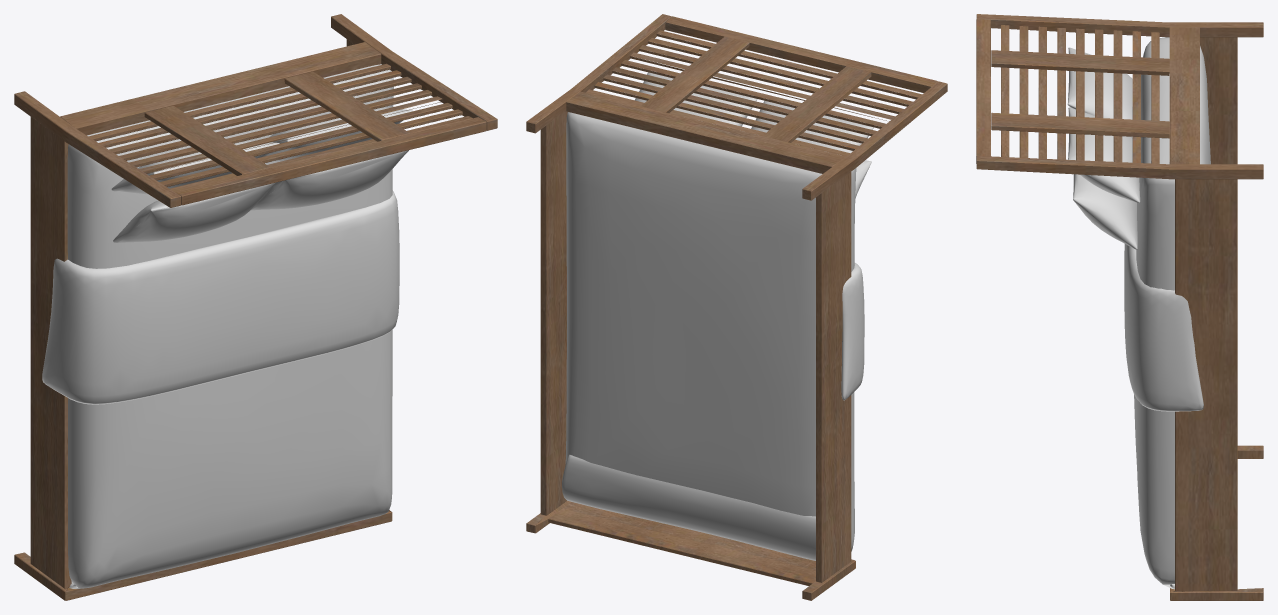
Rendered from double_bed_2.gltf.
The picture shows the model from 3 angles, left to right: view 1: azimuth 30°, elevation 25°; view 2: azimuth 150°, elevation 25°; view 3: azimuth 270°, elevation 25°; orthographic projection. The views are drawn at different scales.
Visible parts, largest first — view 1: objobjBox02_a9601d79e05642b08a006e84dcb0ca8b, objPlane03_5a59deecefa2485b805e7ee2d44cf687, Object07_a818dba50f3c42a1bb94ad6871ebd5a3, Box01_790c69d49c244e91970dd420d7d9d7f7, Object08_404e30c4cdb54e2da94131c8c20a2959, objBox57_e18d5656551345969191c12171433ff1, objBox56_cd6ba307c0d740cea2770729a2aa2139, Object11_18bda0e585124d3abebd0171378a6987, objBox55_360f81ae5af64f569713e230df8c1e07, objBox01_e3f1c961d21c4d3a9af6457d4894594a, Object09_fce9a7ef88af40aca0c1501cc47e24e4; view 2: objobjBox02_a9601d79e05642b08a006e84dcb0ca8b, Object08_404e30c4cdb54e2da94131c8c20a2959, Object07_a818dba50f3c42a1bb94ad6871ebd5a3, Box01_790c69d49c244e91970dd420d7d9d7f7, Object10_73a6717559d44358adc437c80054ca77, objPlane03_5a59deecefa2485b805e7ee2d44cf687, objBox55_360f81ae5af64f569713e230df8c1e07, objBox01_e3f1c961d21c4d3a9af6457d4894594a, Object09_fce9a7ef88af40aca0c1501cc47e24e4; view 3: Object08_404e30c4cdb54e2da94131c8c20a2959, Object07_a818dba50f3c42a1bb94ad6871ebd5a3, Box01_790c69d49c244e91970dd420d7d9d7f7, objobjBox02_a9601d79e05642b08a006e84dcb0ca8b, objPlane03_5a59deecefa2485b805e7ee2d44cf687, objBox56_cd6ba307c0d740cea2770729a2aa2139, objBox55_360f81ae5af64f569713e230df8c1e07, objBox01_e3f1c961d21c4d3a9af6457d4894594a, Object09_fce9a7ef88af40aca0c1501cc47e24e4.
Boxes of the visible parts, x1=… form: objobjBox02_a9601d79e05642b08a006e84dcb0ca8b: x1=67, y1=64, x2=393, y2=588; objPlane03_5a59deecefa2485b805e7ee2d44cf687: x1=42, y1=190, x2=399, y2=404; Object07_a818dba50f3c42a1bb94ad6871ebd5a3: x1=60, y1=42, x2=486, y2=205; Box01_790c69d49c244e91970dd420d7d9d7f7: x1=14, y1=14, x2=497, y2=207; Object08_404e30c4cdb54e2da94131c8c20a2959: x1=30, y1=39, x2=353, y2=588; objBox57_e18d5656551345969191c12171433ff1: x1=113, y1=182, x2=275, y2=242; objBox56_cd6ba307c0d740cea2770729a2aa2139: x1=251, y1=150, x2=408, y2=210; Object11_18bda0e585124d3abebd0171378a6987: x1=65, y1=512, x2=391, y2=600; objBox55_360f81ae5af64f569713e230df8c1e07: x1=266, y1=107, x2=412, y2=161; objBox01_e3f1c961d21c4d3a9af6457d4894594a: x1=111, y1=139, x2=279, y2=194; Object09_fce9a7ef88af40aca0c1501cc47e24e4: x1=14, y1=510, x2=392, y2=600; objobjBox02_a9601d79e05642b08a006e84dcb0ca8b: x1=562, y1=112, x2=856, y2=560; Object08_404e30c4cdb54e2da94131c8c20a2959: x1=540, y1=111, x2=851, y2=582; Object07_a818dba50f3c42a1bb94ad6871ebd5a3: x1=566, y1=16, x2=937, y2=173; Box01_790c69d49c244e91970dd420d7d9d7f7: x1=526, y1=14, x2=947, y2=200; Object10_73a6717559d44358adc437c80054ca77: x1=548, y1=502, x2=815, y2=585; objPlane03_5a59deecefa2485b805e7ee2d44cf687: x1=841, y1=263, x2=864, y2=400; objBox55_360f81ae5af64f569713e230df8c1e07: x1=635, y1=72, x2=757, y2=126; objBox01_e3f1c961d21c4d3a9af6457d4894594a: x1=751, y1=100, x2=873, y2=153; Object09_fce9a7ef88af40aca0c1501cc47e24e4: x1=526, y1=501, x2=855, y2=600; Object08_404e30c4cdb54e2da94131c8c20a2959: x1=1175, y1=37, x2=1237, y2=590; Object07_a818dba50f3c42a1bb94ad6871ebd5a3: x1=976, y1=19, x2=1199, y2=164; Box01_790c69d49c244e91970dd420d7d9d7f7: x1=976, y1=14, x2=1263, y2=179; objobjBox02_a9601d79e05642b08a006e84dcb0ca8b: x1=1134, y1=37, x2=1210, y2=589; objPlane03_5a59deecefa2485b805e7ee2d44cf687: x1=1124, y1=244, x2=1203, y2=411; objBox56_cd6ba307c0d740cea2770729a2aa2139: x1=1073, y1=174, x2=1137, y2=249; objBox55_360f81ae5af64f569713e230df8c1e07: x1=1068, y1=107, x2=1140, y2=202; objBox01_e3f1c961d21c4d3a9af6457d4894594a: x1=1067, y1=47, x2=1132, y2=137; Object09_fce9a7ef88af40aca0c1501cc47e24e4: x1=1170, y1=445, x2=1263, y2=600.
Bounding box in the file's own units: 1.66 × 2.26 × 1.33.
Materials: 2 (1 with a texture image).
